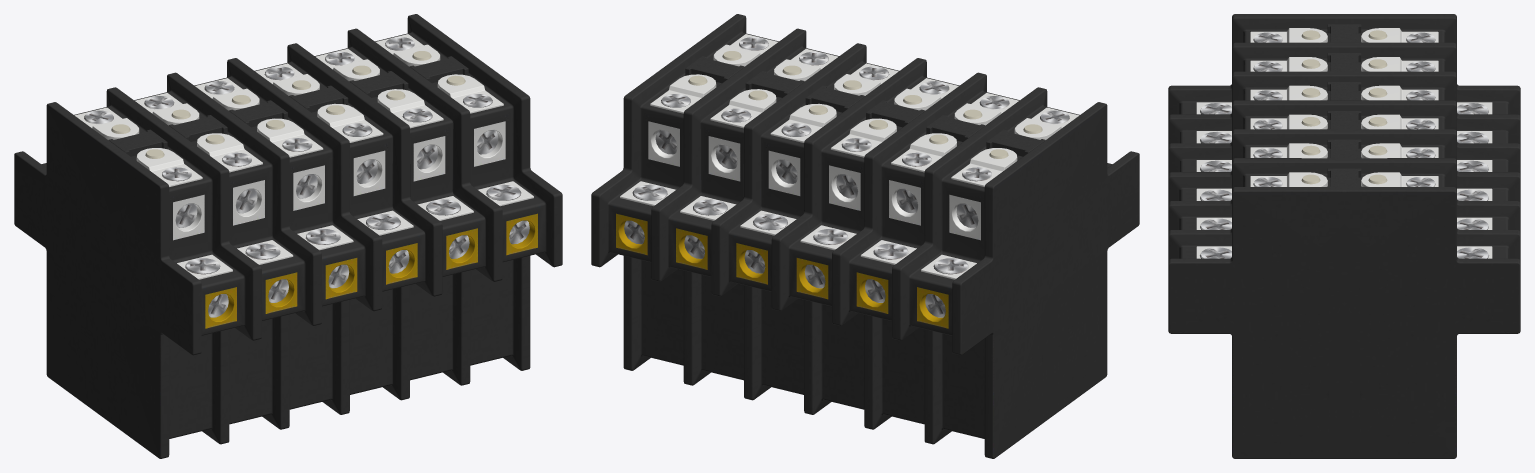
3 renders of one model, left to right at view 1: azimuth 30°, elevation 25°; view 2: azimuth 150°, elevation 25°; view 3: azimuth 270°, elevation 25°, orthographic.
Parts seen in each view (by area): view 1: Z, JieKou1; view 2: Z, JieKou2; view 3: Z.
Boxes of the visible parts, x1,y1,x2,y2 form: Z: (14, 14, 562, 458); JieKou1: (175, 130, 498, 227); Z: (591, 14, 1139, 458); JieKou2: (655, 130, 978, 227); Z: (1168, 14, 1520, 458).
Bounding box in the file's own units: 15.5 × 10.94 × 13.
